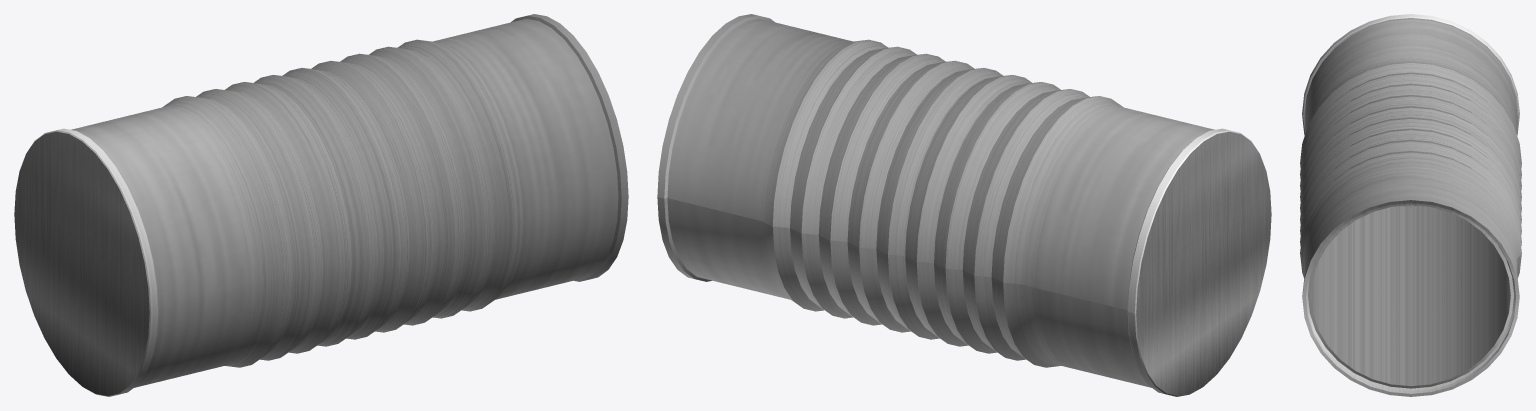
The model's file is tin_can_v2.glb.
3 views of the same model, side by side, from view 1: azimuth 30°, elevation 25°; view 2: azimuth 150°, elevation 25°; view 3: azimuth 270°, elevation 25° (orthographic). The views are drawn at different scales.
Parts seen in each view (by area): view 1: Cylinder; view 2: Cylinder; view 3: Cylinder.
Part boxes in pixels (bbox=[...]): Cylinder: bbox=[14, 14, 628, 396]; Cylinder: bbox=[657, 14, 1271, 396]; Cylinder: bbox=[1300, 14, 1521, 396].
Size of the model in its own units: 0.1324 by 0.0667 by 0.0667.
Materials: 1 (1 with a texture image).
